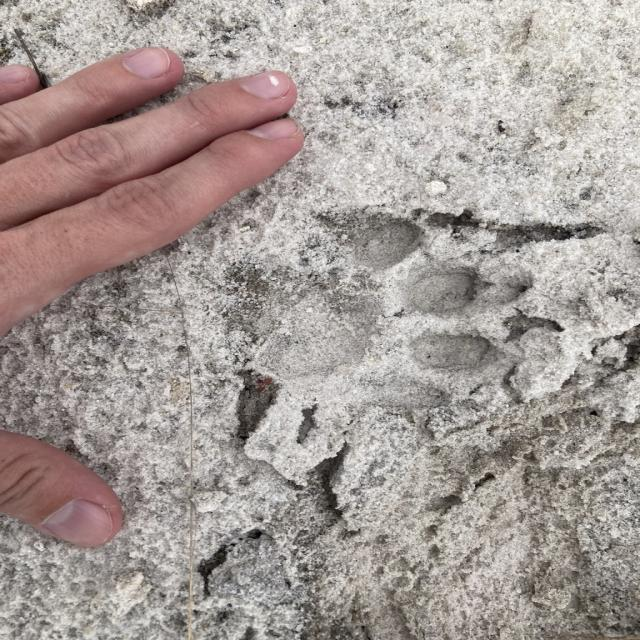felid: (270, 220, 482, 416)
